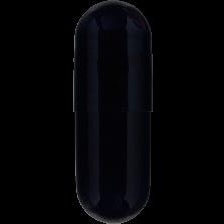58060-002: (0, 0, 224, 224)
